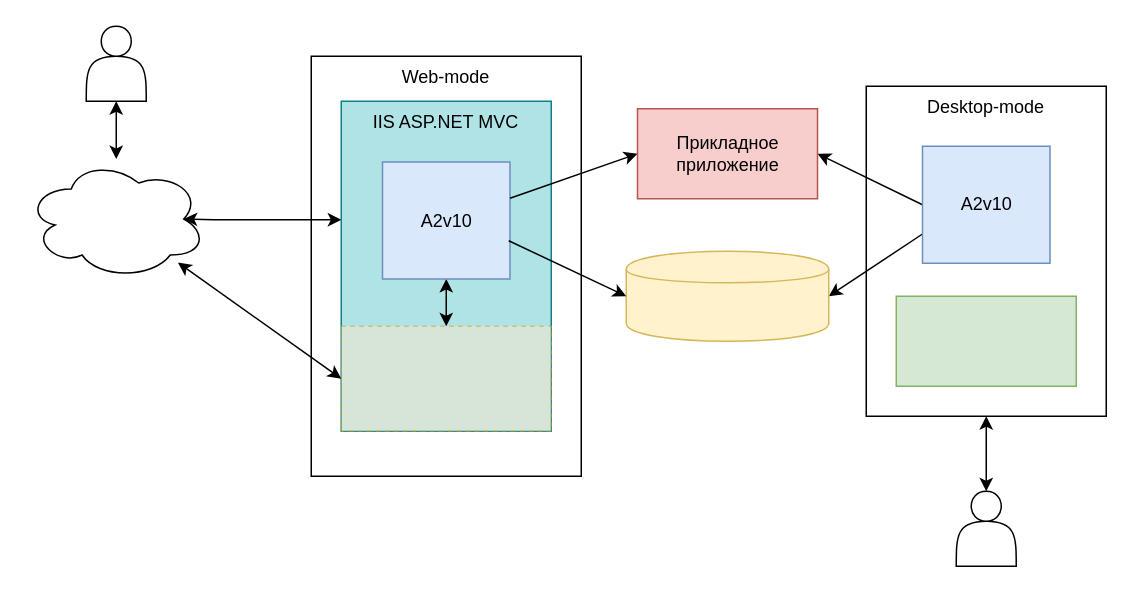
Image size: 1133x593. Some labels were removed from this diagram. Here are the shapes that lost their labels. From the top down, the centre of each, then its label:
the point at 727,295: СУБД (SQL Server)
the point at 985,340: Chrome Embedded Framework
the point at 445,378: Сайт
